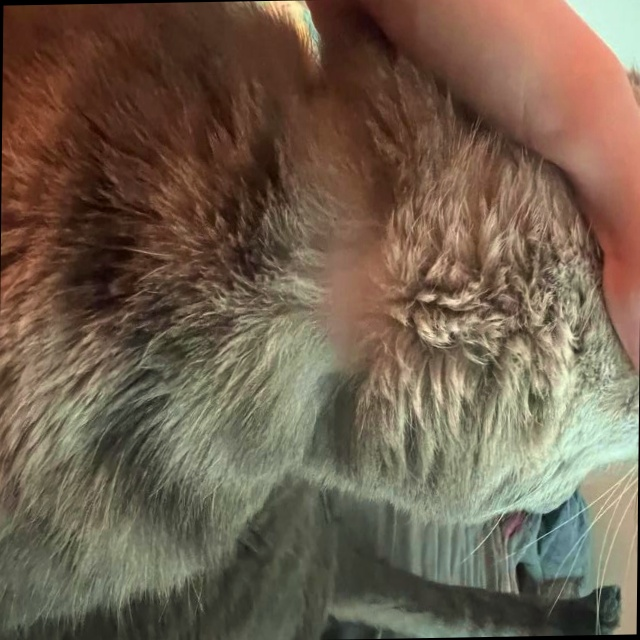hairloss: (320, 125, 393, 400)
